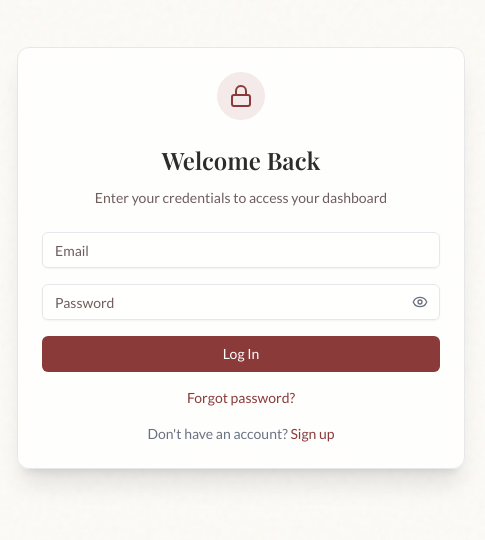
it: LoginPage › Failed Login › should show error message for invalid credentials
Type "wrong@example.com" into the field with placeholder "Email". click: (241, 250)
box: [42, 232, 440, 268]
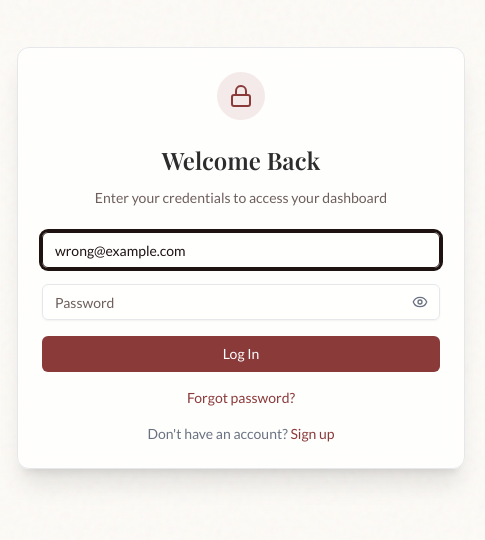
Type "wrongpassword" into the password field with placeholder "Password". click: (241, 302)
box: [42, 284, 440, 320]
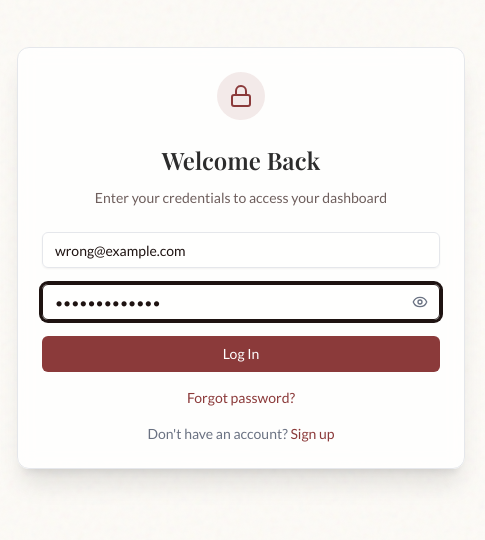
Click the button "Log In". click: (241, 354)
box: [42, 336, 440, 372]
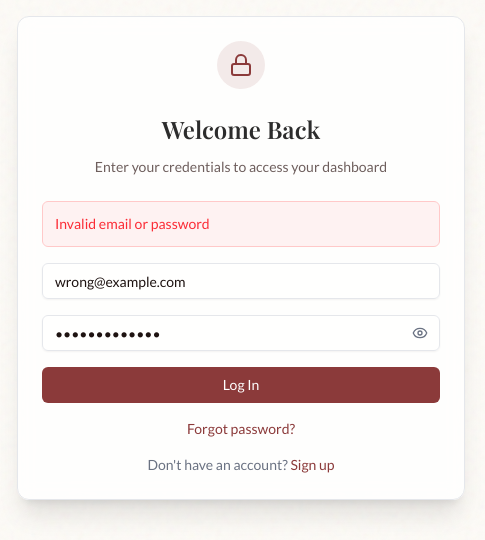
Check: the text "Invalid email or password" is shown, box [42, 201, 440, 247]
